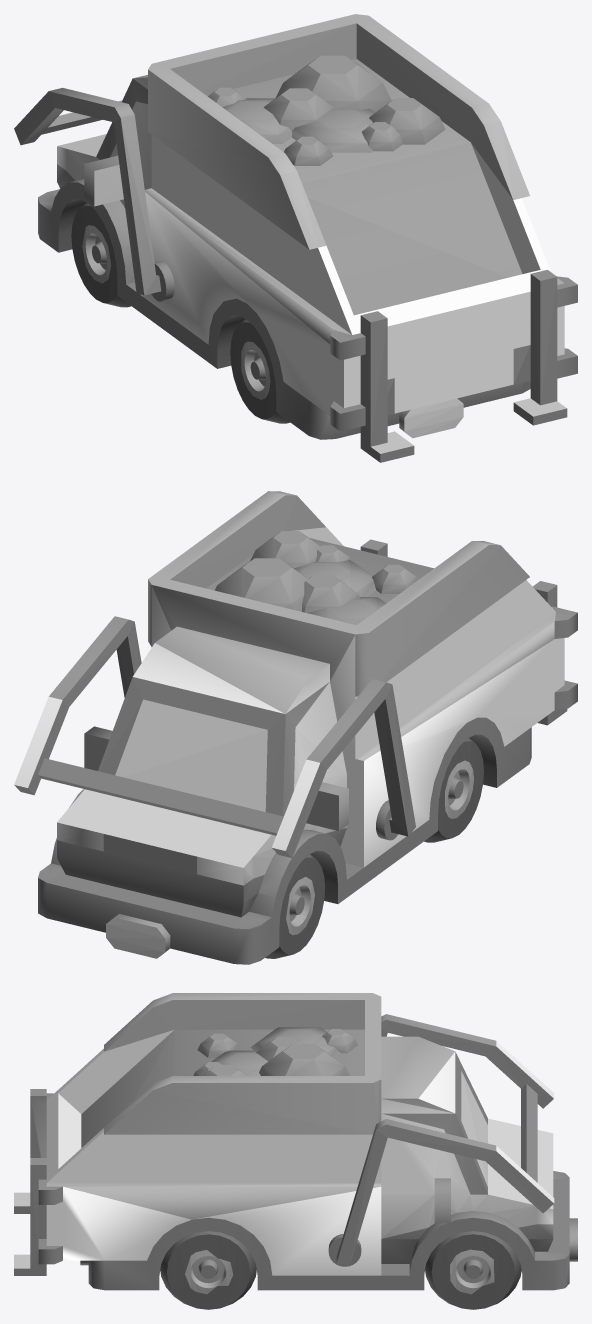
The model's file is slag_hauler.glb.
3 renders of one model, top to bottom at view 1: azimuth 30°, elevation 25°; view 2: azimuth 150°, elevation 25°; view 3: azimuth 270°, elevation 25°, orthographic. The views are drawn at different scales.
Visible parts, largest first — view 1: Body; view 2: Body; view 3: Body.
Boxes of the visible parts, x1,y1,x2,y2 form: Body: (14,14,577,462); Body: (14,491,577,964); Body: (14,993,577,1309).
Size of the model in its own units: 3.25 by 3.25 by 7.
2 materials, 1 textured.
